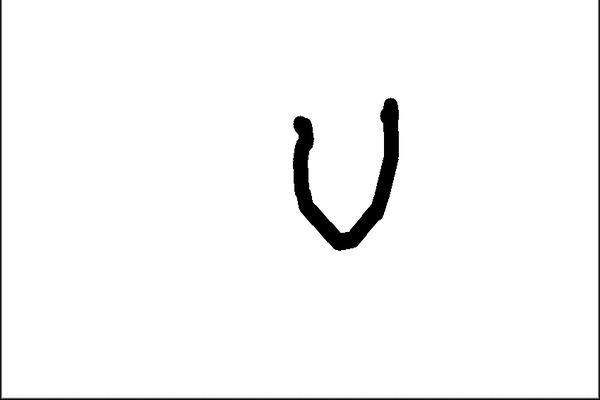U: (277, 97, 411, 252)
